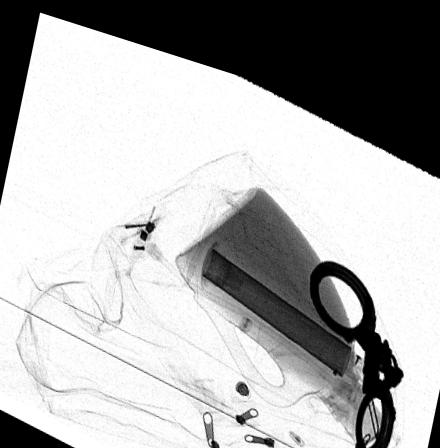HandCuffs: (309, 239, 404, 438)
